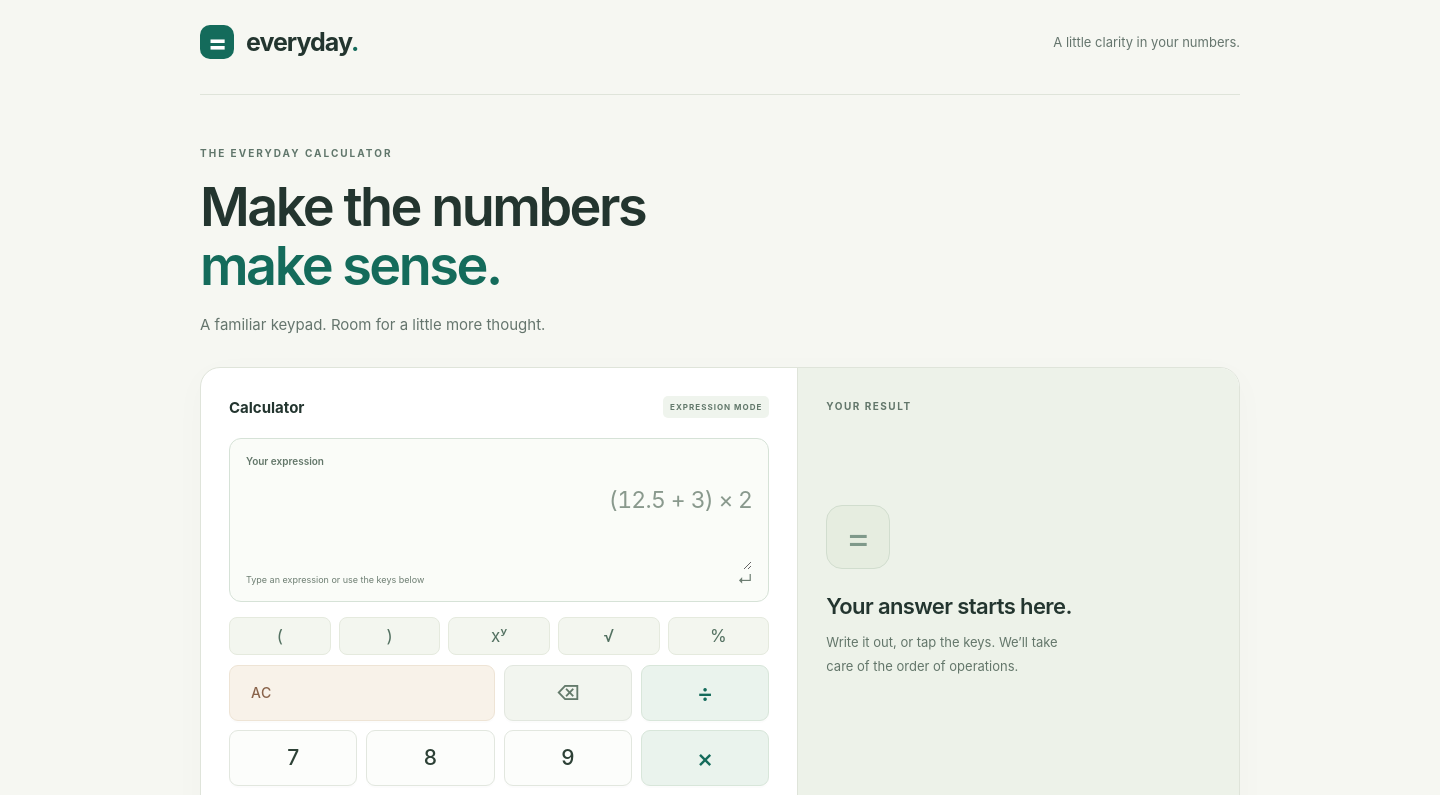
Test: expression calculator › removes rounding and copy feedback when a new exact result is shown
This screenshot has width=1440, height=795.
In the text box labelled "Your expression": (499, 519) [246, 467, 752, 570], type "1/3"
(page scrolled)
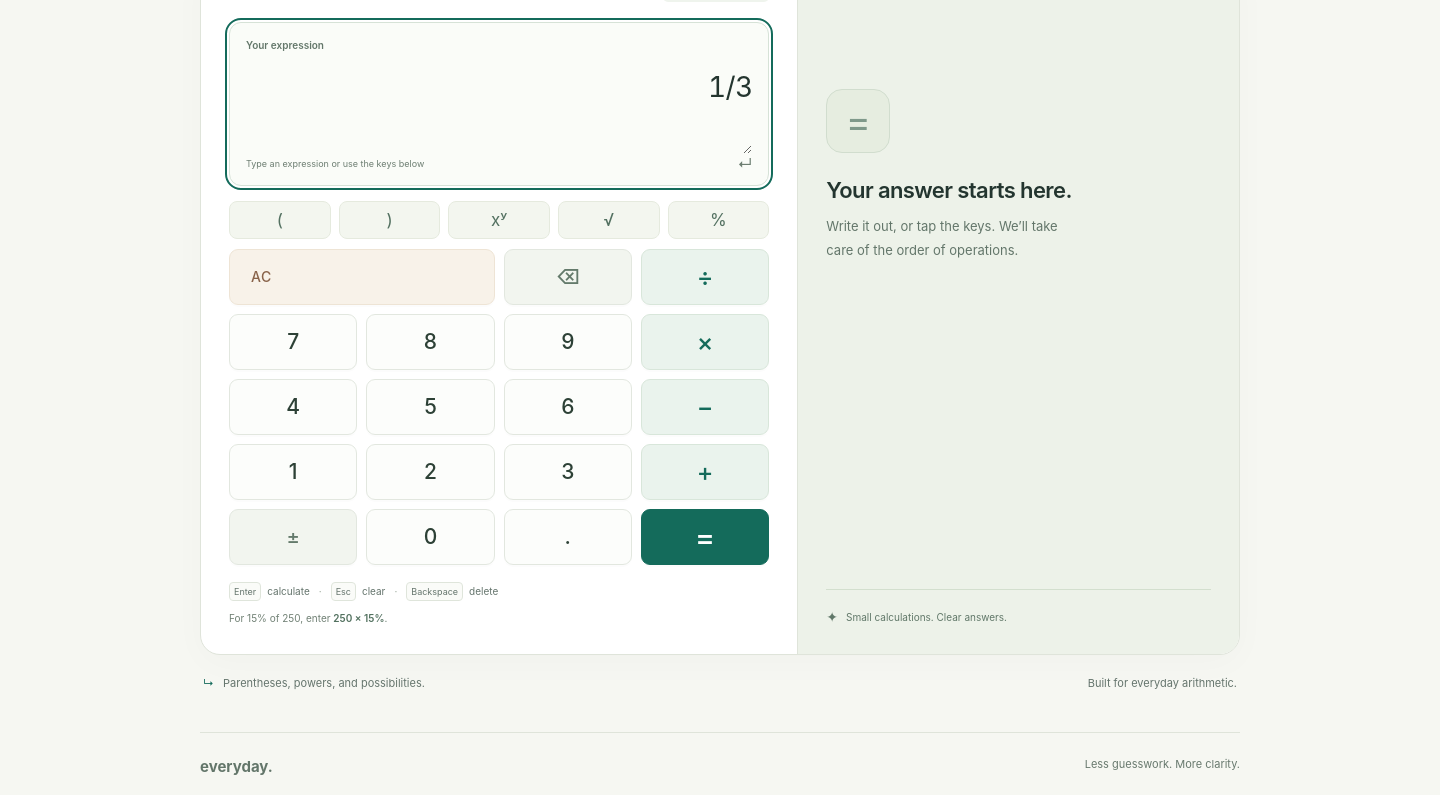
Click the button named "Calculate": (705, 537) [641, 509, 769, 565]
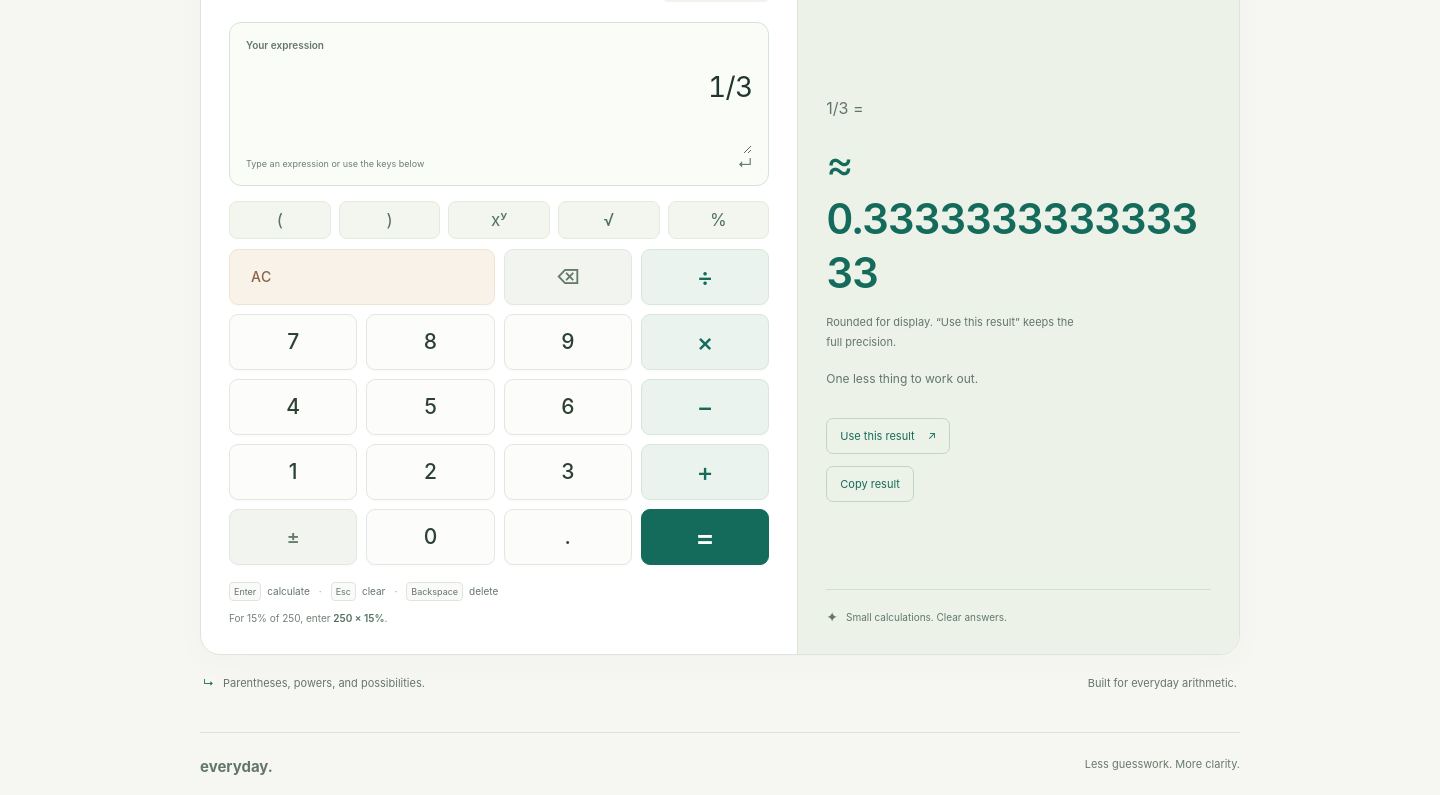
Expected: the element named "Result" is shown, [826, 137, 1211, 301]
Click the button "Copy result": (870, 484) [826, 466, 914, 502]
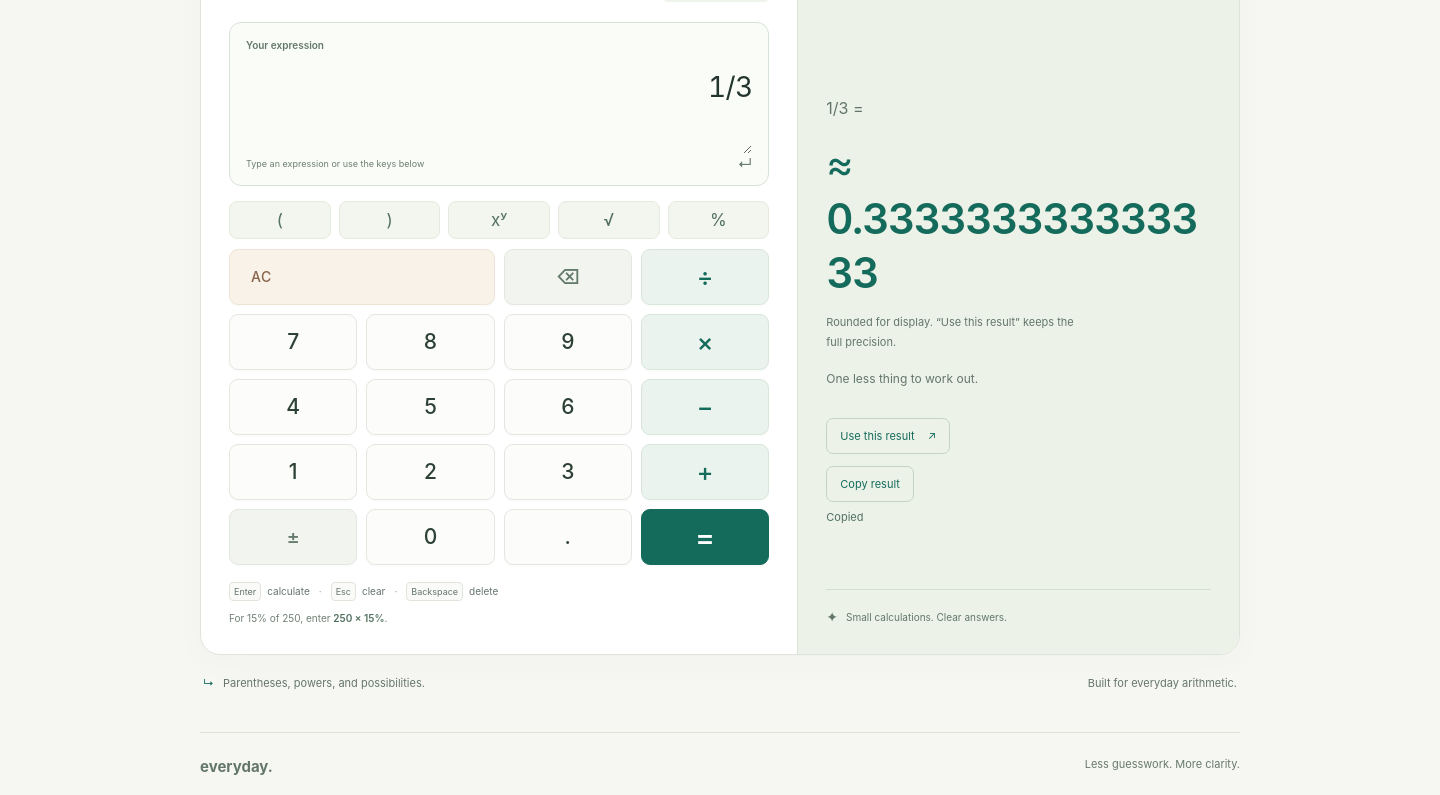
Expected: the text "Copied" is shown, [826, 510, 864, 524]
Click the button named "Calculate": (705, 537) [641, 509, 769, 565]
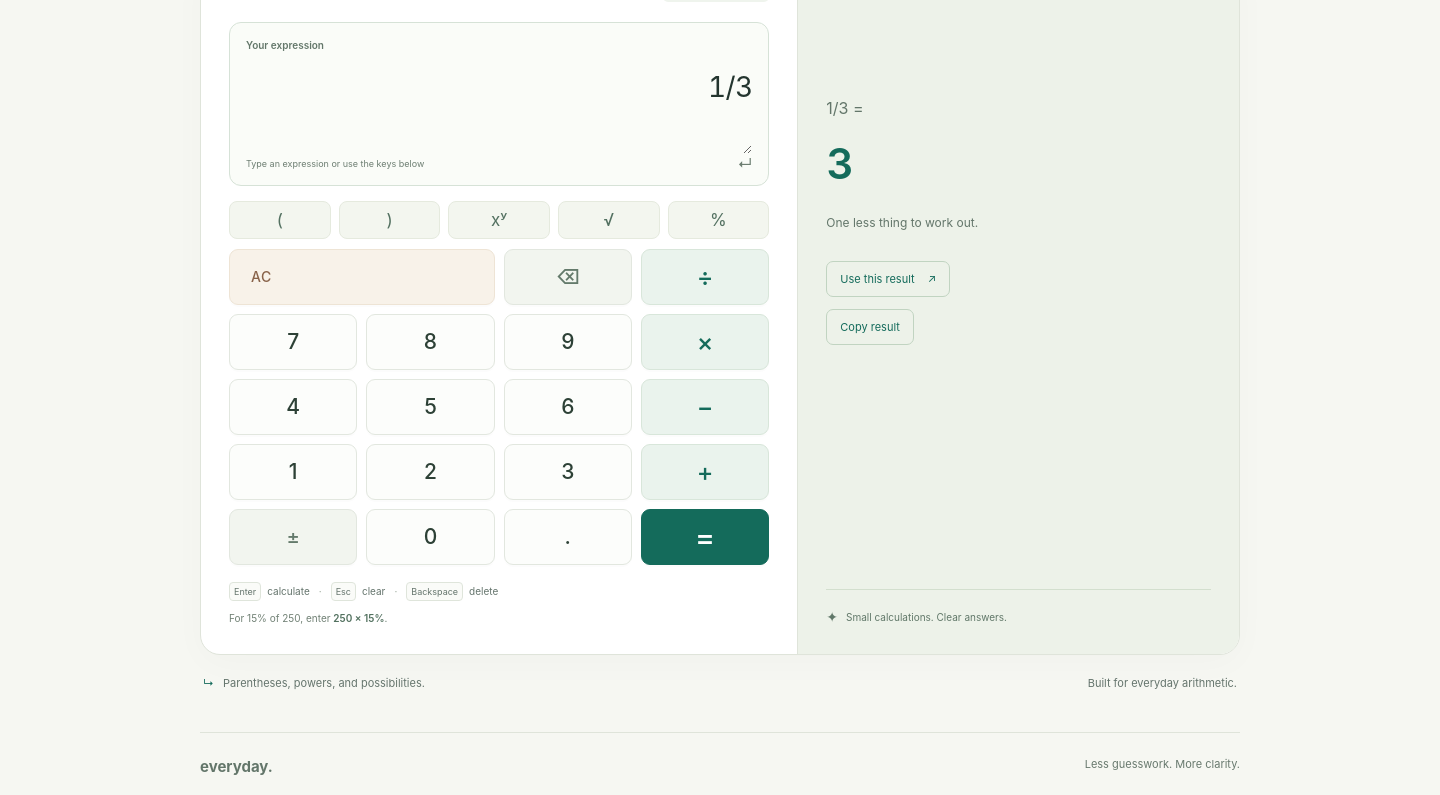
Expected: the text named "Result" reads "3", [826, 138, 852, 189]
Expected: the text "Rounded for display" is gone
Expected: the text "Copied" is gone
